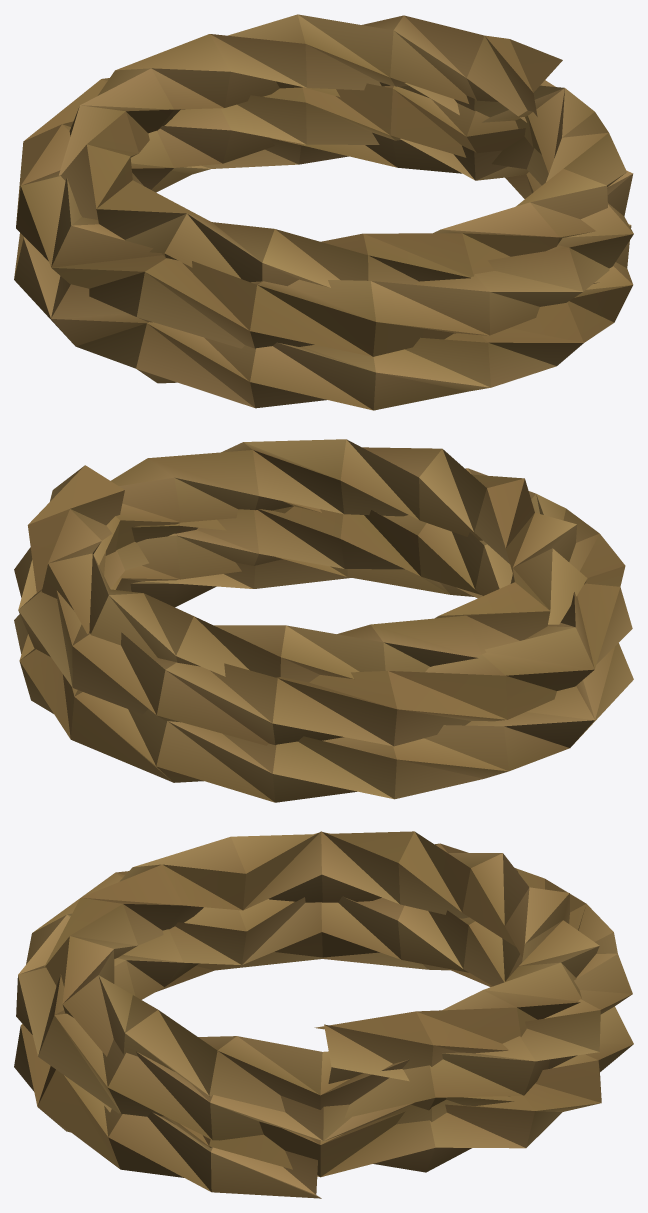
The model's file is rope.glb.
3 views of the same model, one above another, from view 1: azimuth 30°, elevation 25°; view 2: azimuth 150°, elevation 25°; view 3: azimuth 270°, elevation 25° (orthographic). The views are drawn at different scales.
Visible parts, largest first — view 1: rope_solid; view 2: rope_solid; view 3: rope_solid.
Part boxes in pixels (x1,y1,x2,y2): rope_solid: (14, 14, 633, 410); rope_solid: (14, 439, 633, 802); rope_solid: (14, 831, 633, 1198).
Bounding box in the file's own units: 0.3117 × 0.0997 × 0.3143.
